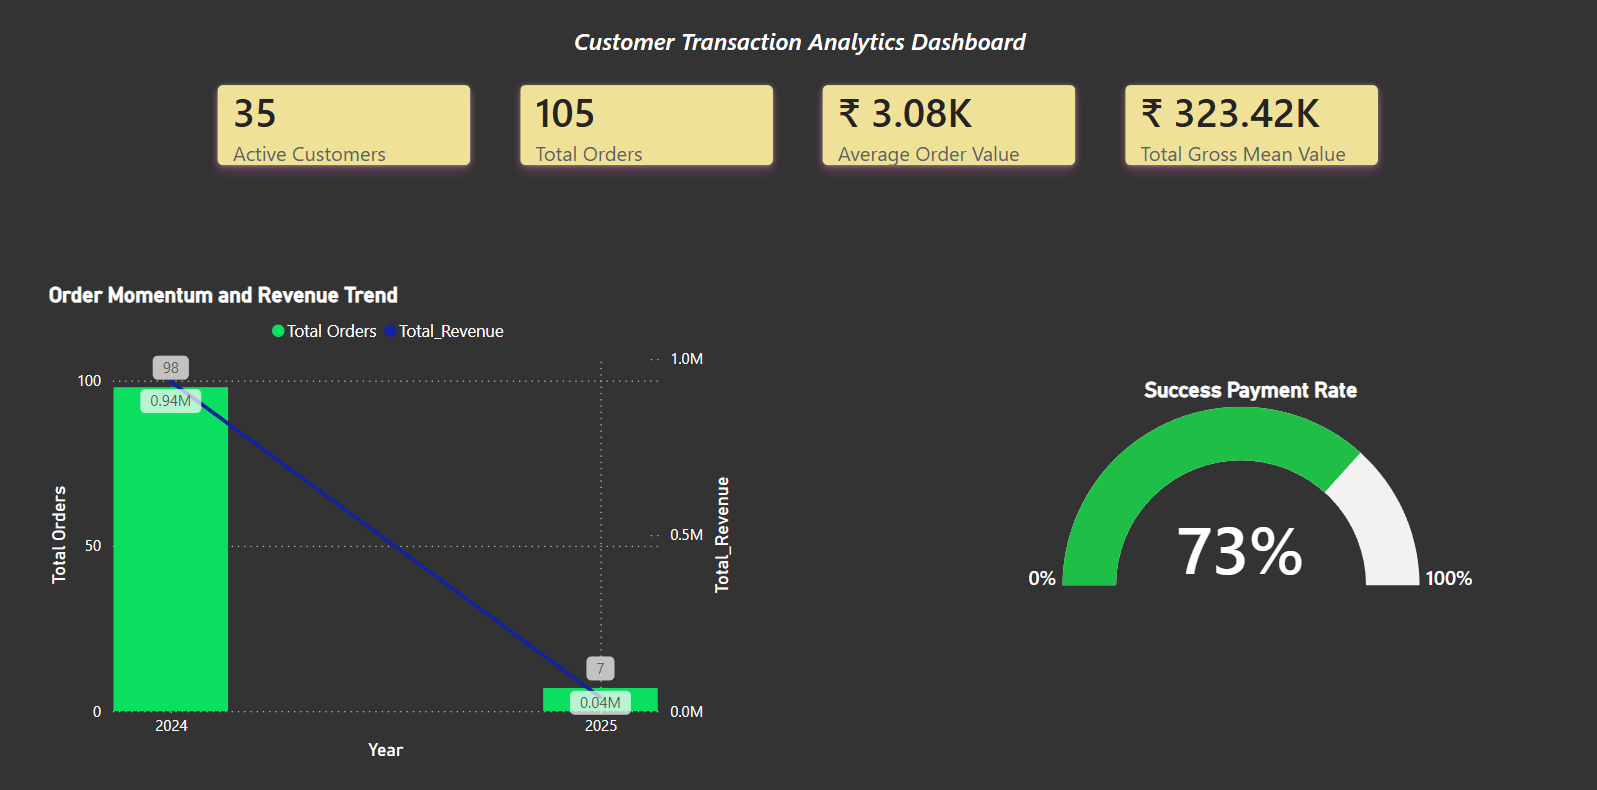

Layout of this report page (visuals, bound fields, positions):
{"tool":"powerbi","page":{"name":"Executive Summary","canvas":[1280,720],"ordinal":1},"visuals":[{"type":"cardVisual","fields":{"Data":["_Calculation.Active Customers","_Calculation.Total Orders","_Calculation.AOV","_Calculation.Total GMV"]},"box":[141.9,37.2,996.5,130.2],"z":0},{"type":"textbox","box":[454.7,17.4,408.1,38.4],"z":1000},{"type":"gauge","fields":{"Y":["_Calculation.Success Rate"]},"box":[789.5,303.5,423.3,176.7],"z":2000},{"type":"lineStackedColumnComboChart","title":"Order Momentum and Revenue Trend","fields":{"Category":["orders.order_date.Variation.Date Hierarchy.Year","orders.order_date.Variation.Date Hierarchy.Quarter","orders.order_date.Variation.Date Hierarchy.Month","orders.order_date.Variation.Date Hierarchy.Day"],"Y2":["order_items.Total_Revenue"],"Y":["_Calculation.Total Orders"]},"box":[34.9,226.7,555.8,388.4],"z":3000}]}

Visuals, with their boxes on the page's 1280x720 design canvas (x1, y1, x2, y2). These are canvas units, not pixel positions in the 1597x790 screenshot, which may show the page scaled, cropped or inside an application window:
cardVisual - _Calculation.Active Customers x _Calculation.Total Orders: pyautogui.locateOnScreen(142, 37, 1138, 167)
textbox: pyautogui.locateOnScreen(455, 17, 863, 56)
gauge - _Calculation.Success Rate: pyautogui.locateOnScreen(790, 304, 1213, 480)
"Order Momentum and Revenue Trend" lineStackedColumnComboChart: pyautogui.locateOnScreen(35, 227, 591, 615)
